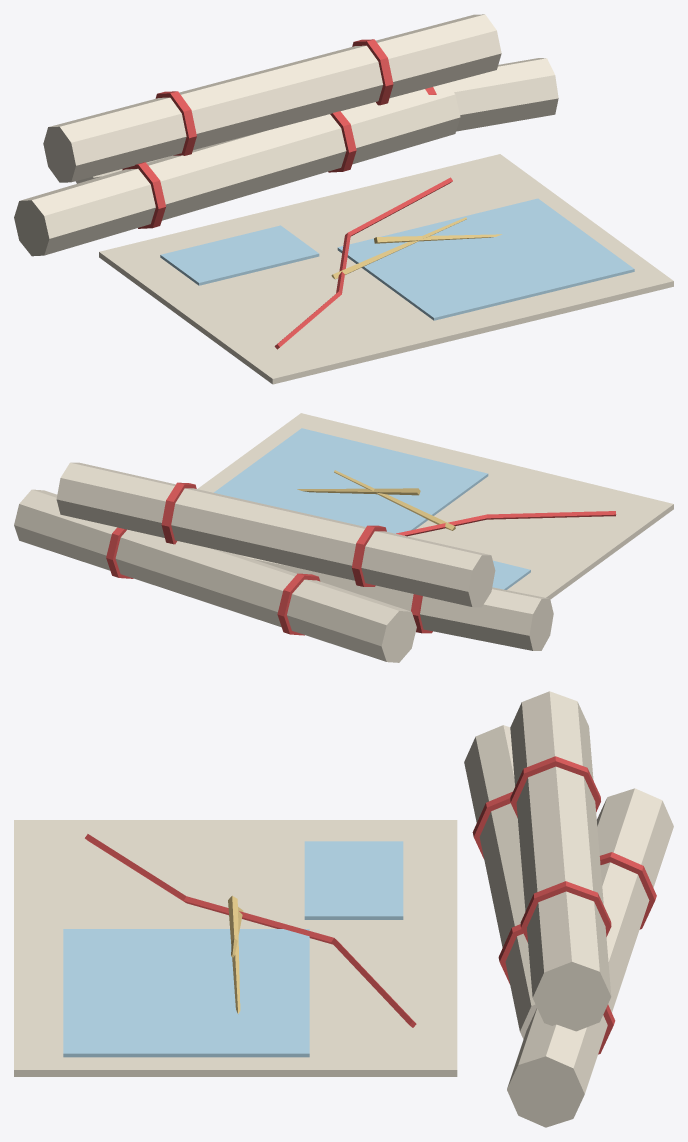
File: CR_CartasNauticas.fbx
3 renders of one model, top to bottom at view 1: azimuth 30°, elevation 25°; view 2: azimuth 150°, elevation 25°; view 3: azimuth 270°, elevation 25°, orthographic. The views are drawn at different scales.
Parts seen in each view (by area): view 1: CR_CartasNauticas; view 2: CR_CartasNauticas; view 3: CR_CartasNauticas.
Part boxes in pixels (x1=…): CR_CartasNauticas: x1=14, y1=14, x2=673, y2=384; CR_CartasNauticas: x1=14, y1=413, x2=673, y2=662; CR_CartasNauticas: x1=14, y1=691, x2=673, y2=1127.
Size of the model in its own units: 0.8047 by 0.162 by 0.6698.
